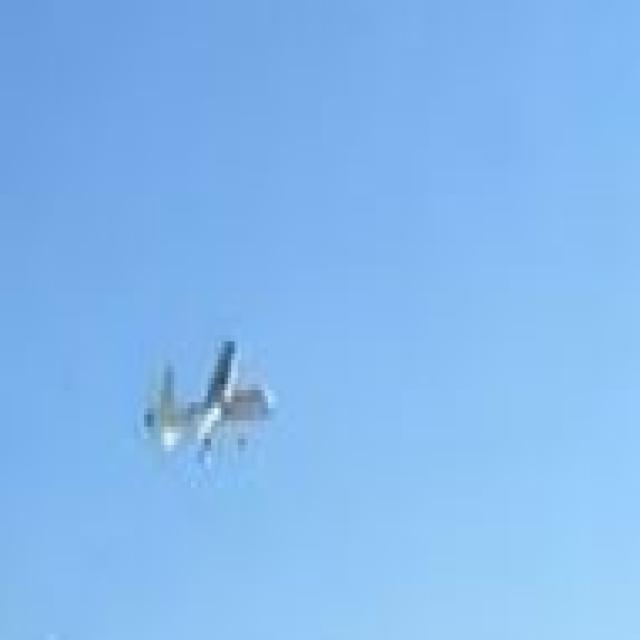iha: (133, 335, 276, 484)
